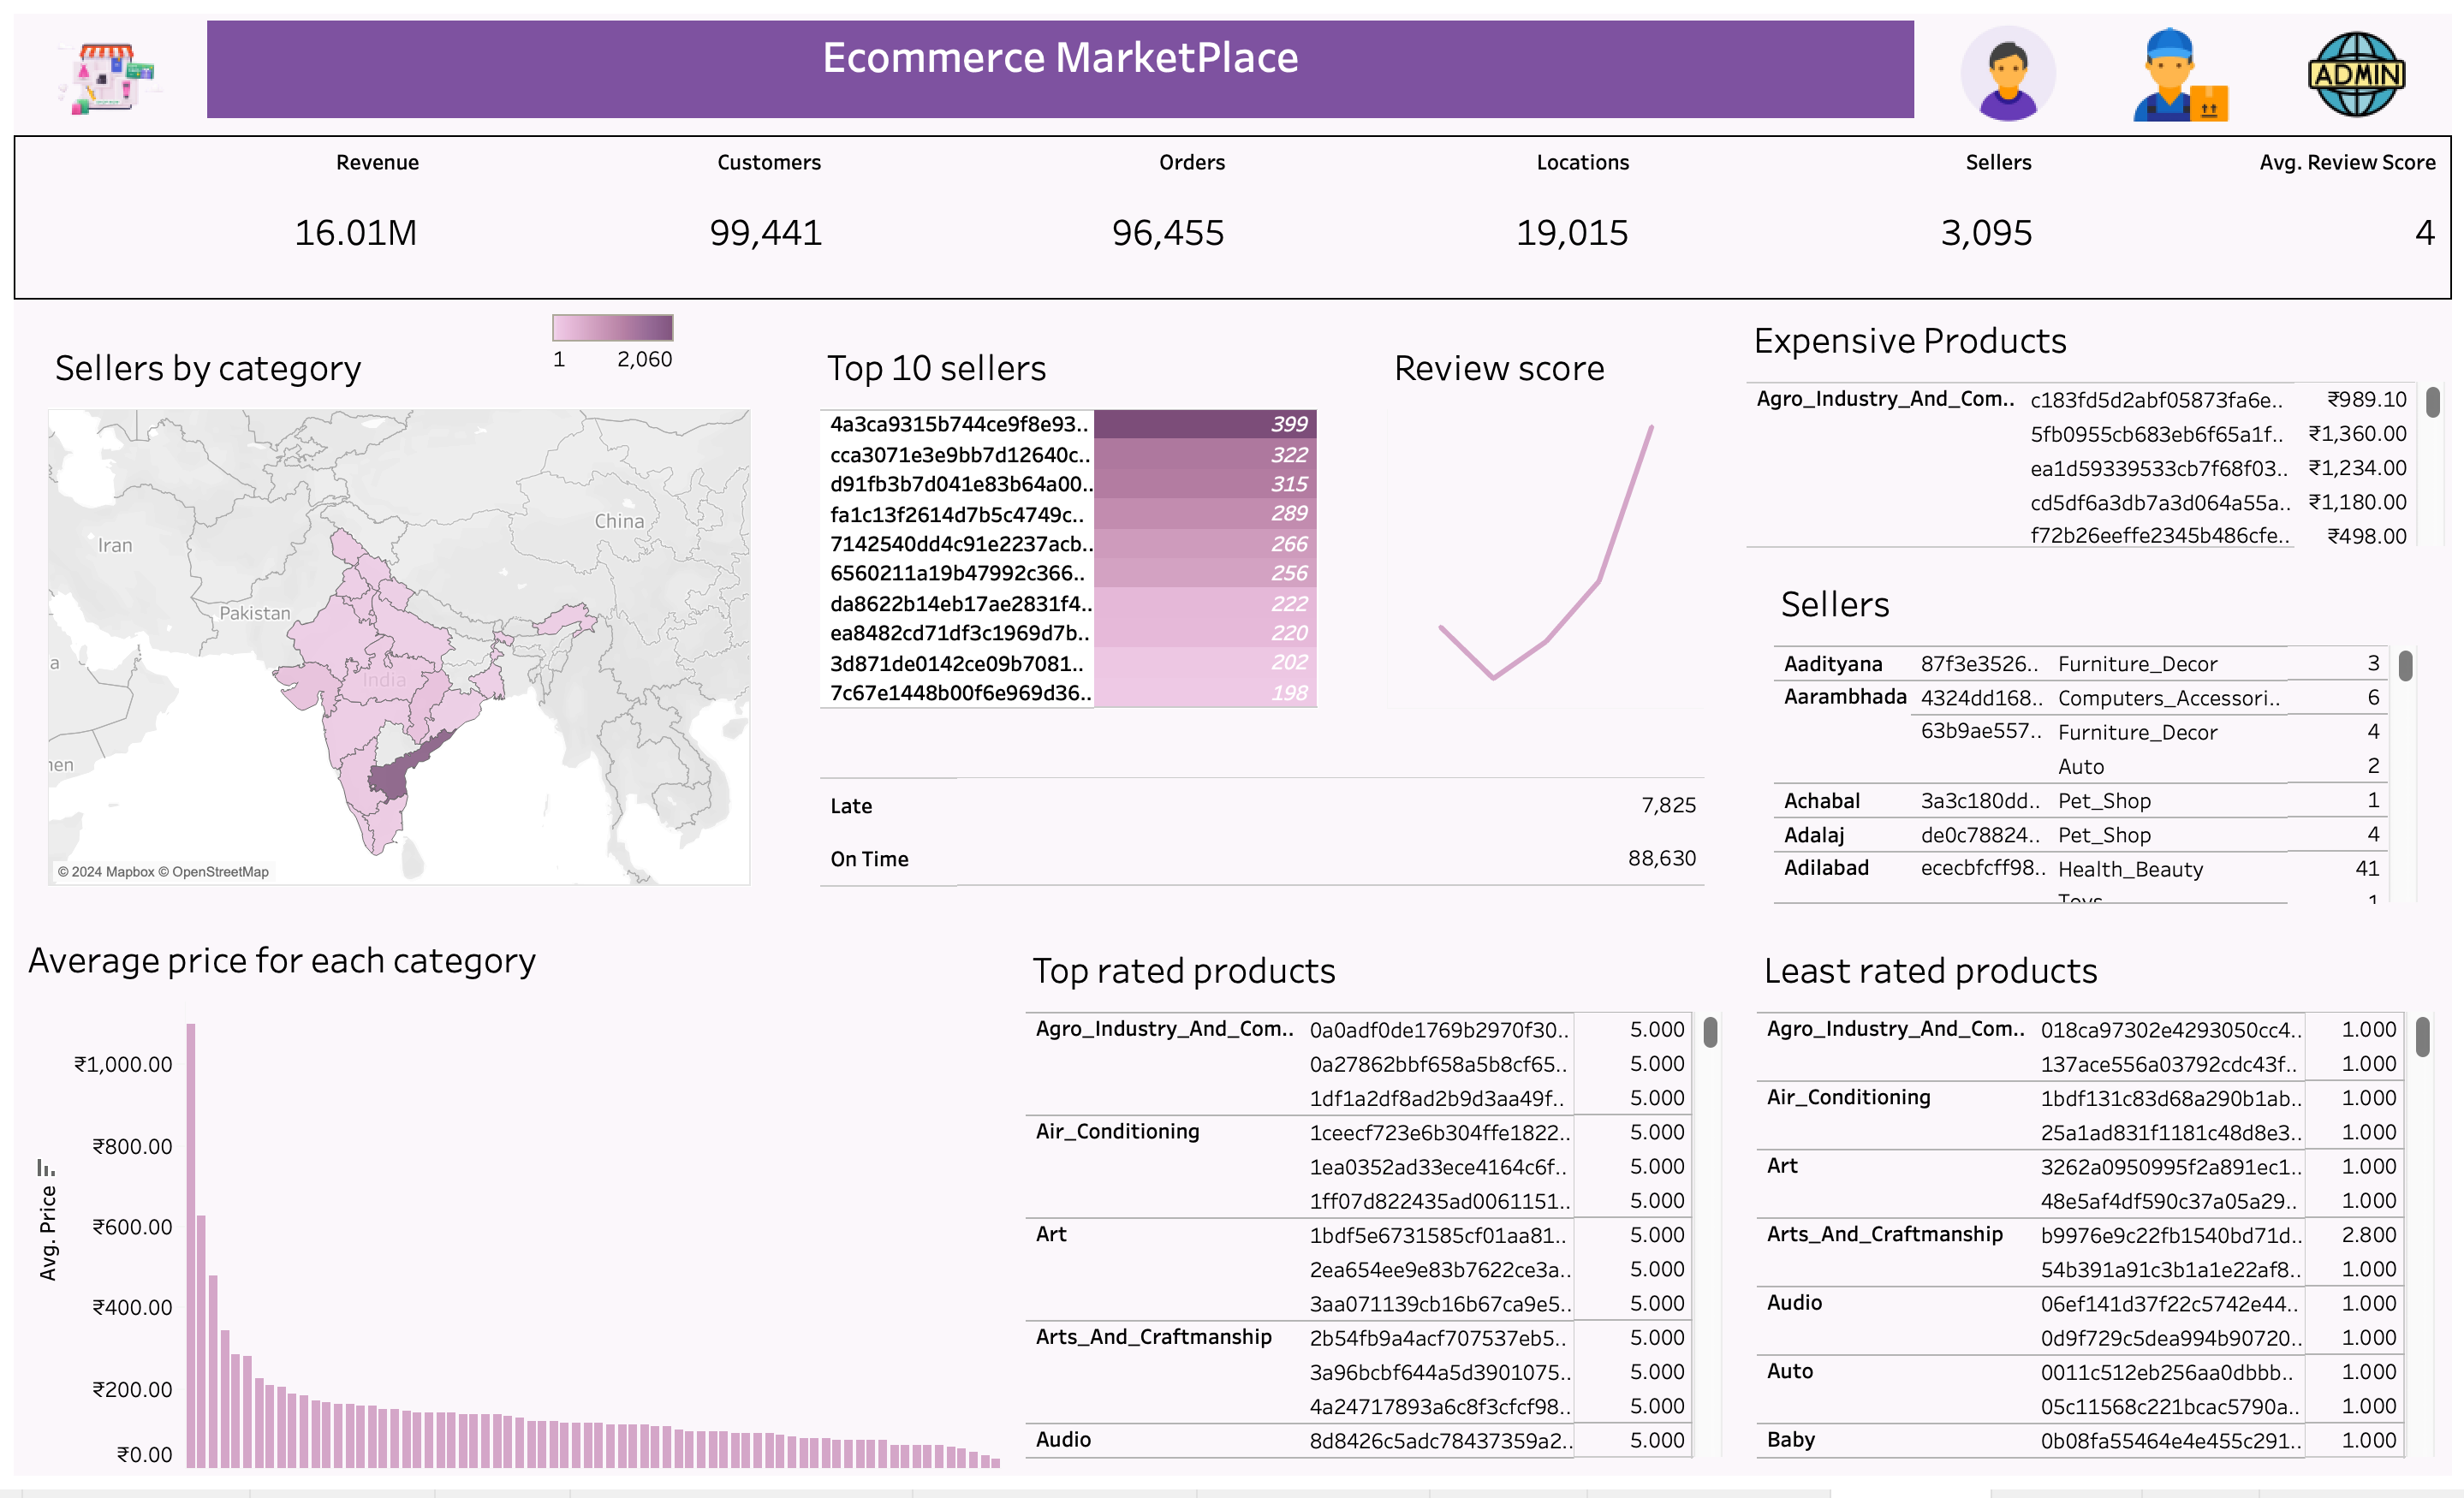

Layout of this report page (visuals, bound fields, positions):
{"tool":"tableau","page":{"name":"Customers","canvas":[1000,1000],"units":"permille","ordinal":1},"visuals":[{"type":"dashboard-object","box":[5.6,9.2,76,82.1]},{"type":"dashboard-object","box":[779.6,9.2,70.2,82.1]},{"type":"dashboard-object","box":[849.8,9.2,67.7,82.1]},{"type":"dashboard-object","box":[917.5,9.2,77,82.1]},{"type":"text","box":[84.4,13.8,692.5,47.1]},{"type":"worksheet","title":"Kpi ","mark":"Automatic","box":[6.2,92,987.5,109.2]},{"type":"worksheet","title":"Sellers by category","mark":"Automatic","box":[5.6,201.8,313.1,416.4]},{"type":"worksheet","title":"Top 10 sellers","mark":"Square","rows":["seller_id (sellers)"],"box":[318.6,201.8,230.2,296.7]},{"type":"worksheet","title":"Review score vs products","mark":"Automatic","rows":["product_id (products)"],"cols":["review_score"],"box":[548.8,201.8,156.5,296.7]},{"type":"worksheet","title":"expensive products in each category","mark":"Automatic","rows":["product_category_name","product_id (products)"],"box":[705.3,201.8,289.2,170.5]},{"type":"legend","title":"Sellers by category","param":"[federated.0qm3pxs12zi57315z8y3x1pmuhs6].[cnt:seller_id (sellers):qk]","box":[221.3,206.7,54.5,44.6]},{"type":"worksheet","title":"Sellers","mark":"Automatic","rows":["seller_city","seller_id (sellers)","product_category_name"],"box":[705.3,372.4,289.2,245.8]},{"type":"worksheet","title":"Late orders","mark":"Automatic","rows":["Calculation_53620995860549638"],"box":[318.6,498.5,386.7,119.7]},{"type":"worksheet","title":"Average price for each category","mark":"Automatic","rows":["price"],"cols":["product_category_name"],"box":[5.6,618.2,403.5,372.6]},{"type":"worksheet","title":"Top rated products","mark":"Automatic","rows":["product_category_name","product_id (products)"],"box":[409,618.2,296.4,372.6]},{"type":"worksheet","title":"Least rated products","mark":"Automatic","rows":["product_category_name","product_id (products)"],"box":[705.4,618.2,289,372.6]}]}

Visuals, with their boxes on the dashboard's canvas, which has no fixed pixel size, in thousandths of its width and height (x1, y1, x2, y2). These are canvas units, not pixel positions in the 2464x1498 screenshot, which may show the page scaled, cropped or inside an application window:
dashboard-object: left=6, top=9, right=82, bottom=91
dashboard-object: left=780, top=9, right=850, bottom=91
dashboard-object: left=850, top=9, right=918, bottom=91
dashboard-object: left=918, top=9, right=994, bottom=91
text: left=84, top=14, right=777, bottom=61
"Kpi " worksheet: left=6, top=92, right=994, bottom=201
"Sellers by category" worksheet: left=6, top=202, right=319, bottom=618
"Top 10 sellers" worksheet (Square marks): left=319, top=202, right=549, bottom=498
"Review score vs products" worksheet: left=549, top=202, right=705, bottom=498
"expensive products in each category" worksheet: left=705, top=202, right=994, bottom=372
"Sellers by category" legend: left=221, top=207, right=276, bottom=251
"Sellers" worksheet: left=705, top=372, right=994, bottom=618
"Late orders" worksheet: left=319, top=498, right=705, bottom=618
"Average price for each category" worksheet: left=6, top=618, right=409, bottom=991
"Top rated products" worksheet: left=409, top=618, right=705, bottom=991
"Least rated products" worksheet: left=705, top=618, right=994, bottom=991
